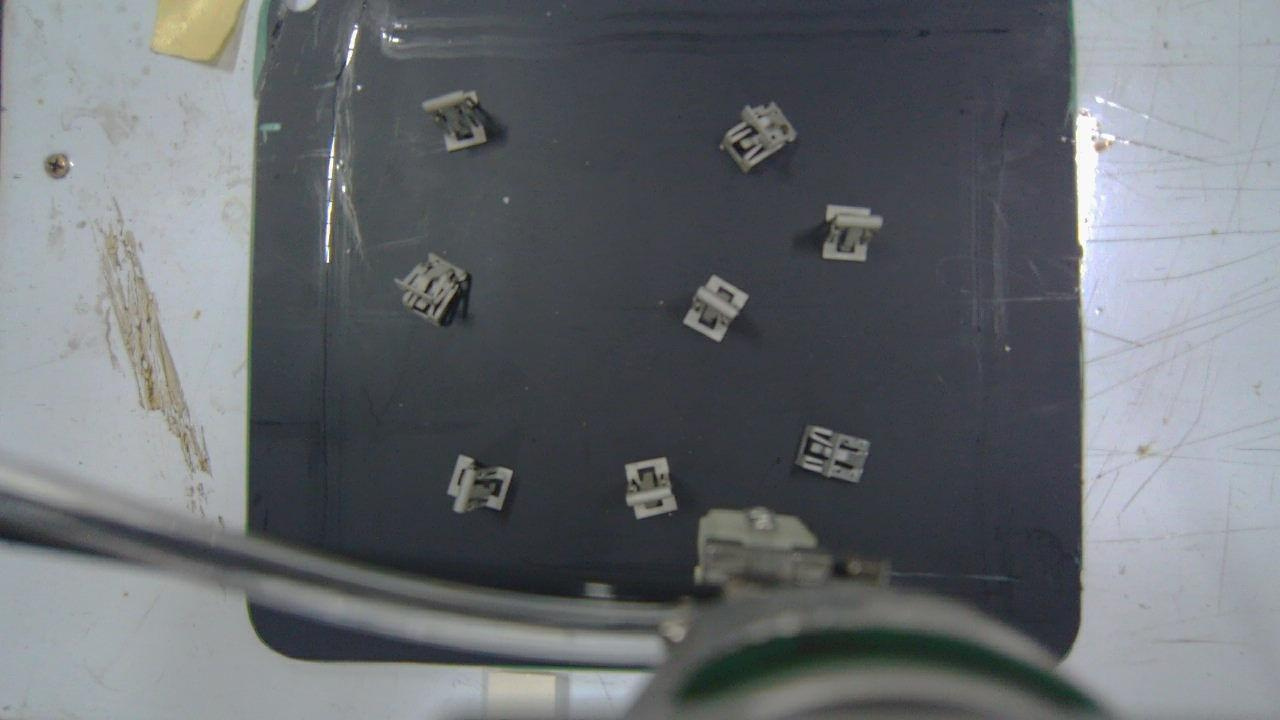ng: (719, 102, 798, 175), (395, 252, 468, 327), (795, 425, 871, 484), (422, 91, 486, 152), (447, 454, 514, 512), (822, 204, 884, 261)
pass: (682, 274, 750, 340), (625, 458, 677, 519)
